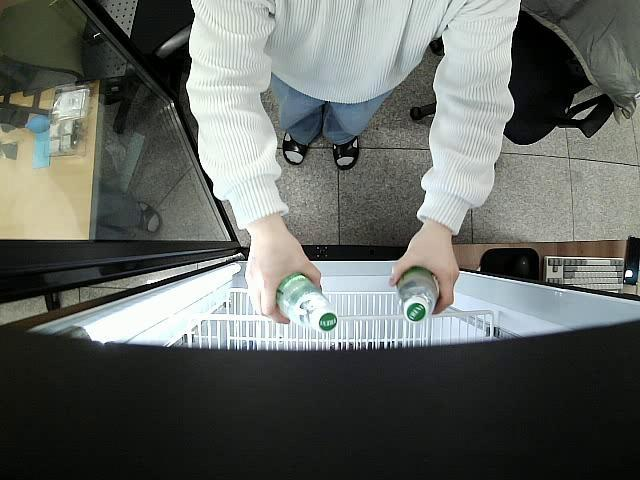18_trevi: (274, 270, 338, 334), (398, 264, 439, 320)
